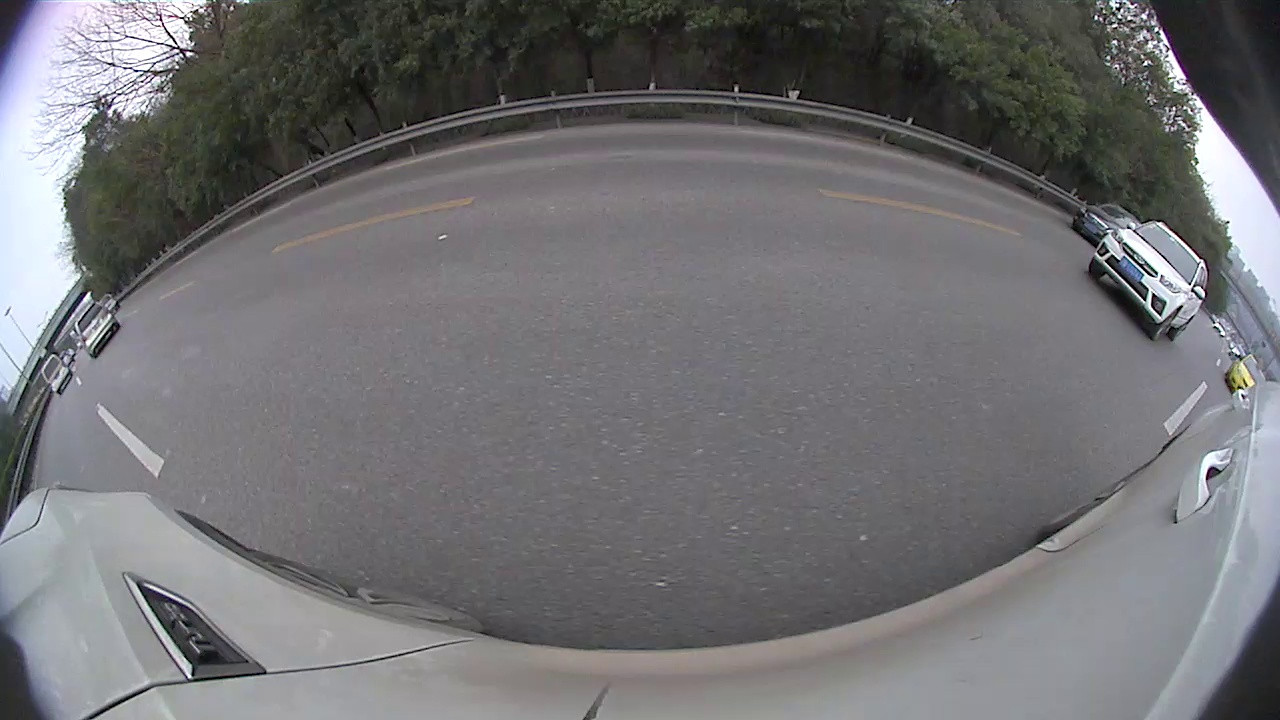car: (1087, 218, 1210, 343), (1070, 202, 1143, 248), (72, 299, 122, 360), (1224, 352, 1268, 399), (39, 352, 74, 397)
front: (1154, 307, 1179, 341)
